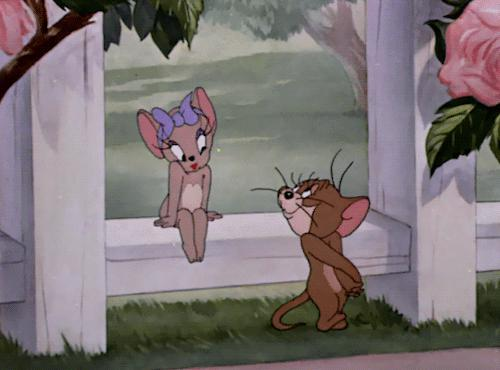jerry: (250, 150, 373, 333)
